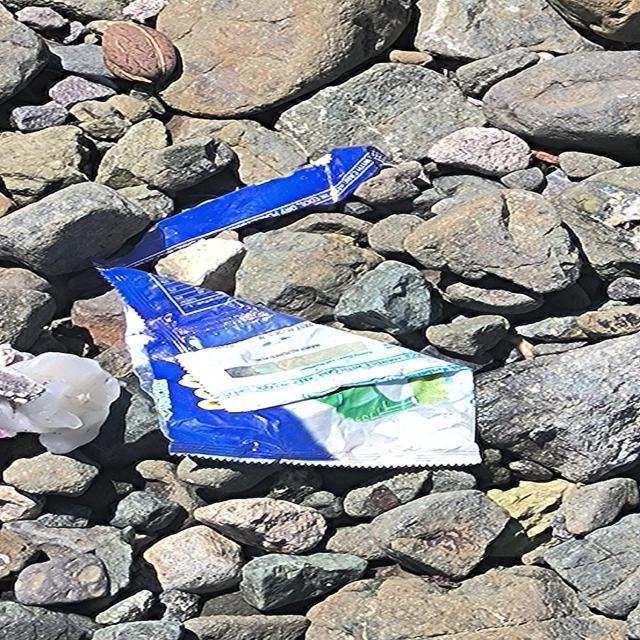plastic_waste: (96, 265, 484, 469)
